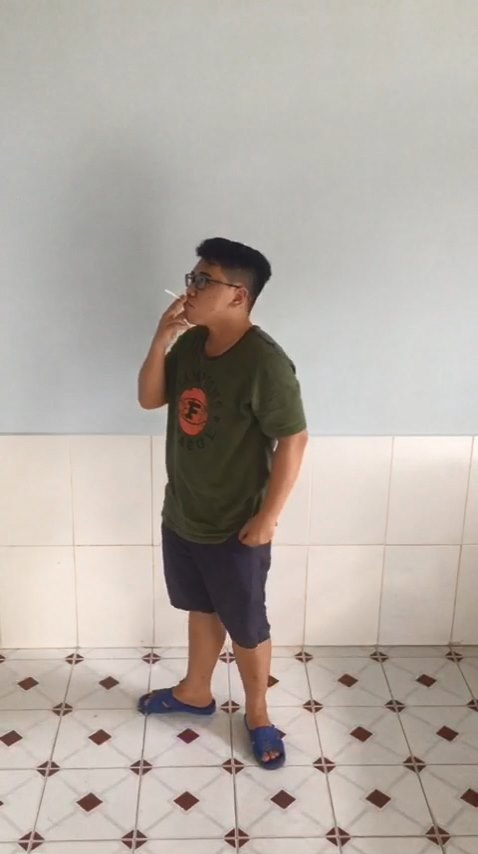cigarette: (161, 280, 190, 302)
person: (109, 208, 347, 782)
